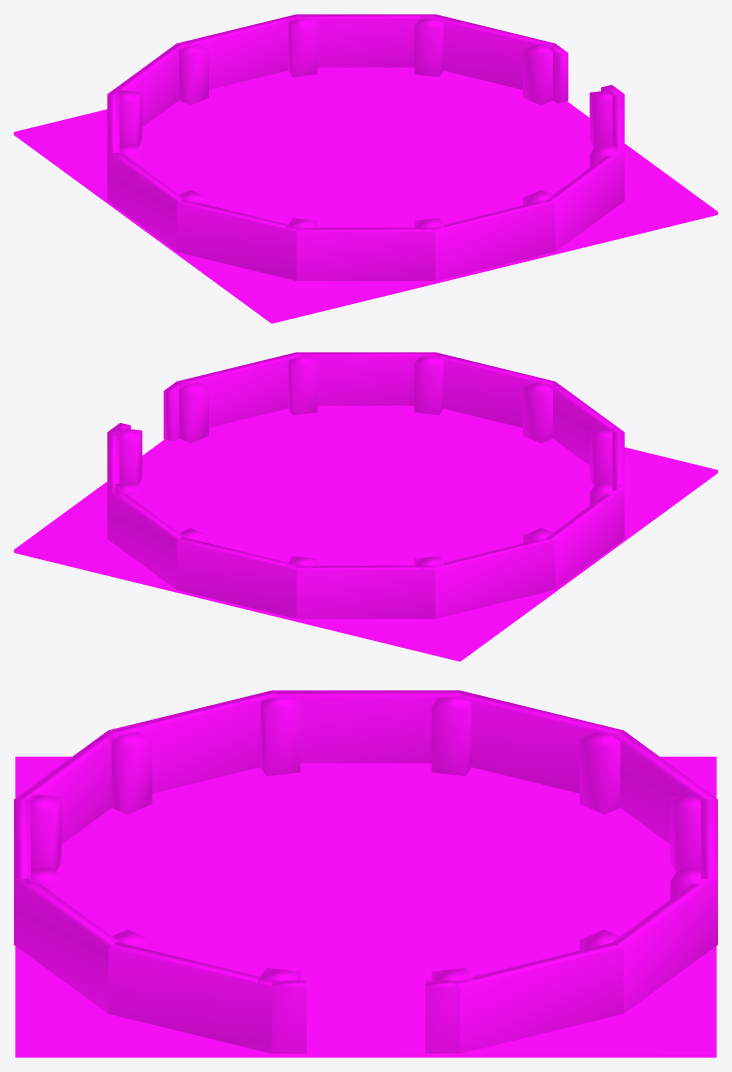
The model's file is guild-hall-collision.glb.
3 renders of one model, top to bottom at view 1: azimuth 30°, elevation 25°; view 2: azimuth 150°, elevation 25°; view 3: azimuth 270°, elevation 25°, orthographic. The views are drawn at different scales.
Parts seen in each view (by area): view 1: guild-hall-collision; view 2: guild-hall-collision; view 3: guild-hall-collision.
Part boxes in pixels (x1=…): guild-hall-collision: x1=14, y1=14, x2=717, y2=323; guild-hall-collision: x1=14, y1=352, x2=717, y2=661; guild-hall-collision: x1=14, y1=690, x2=717, y2=1057.
Size of the model in its own units: 29.1 by 3.2 by 29.1.
